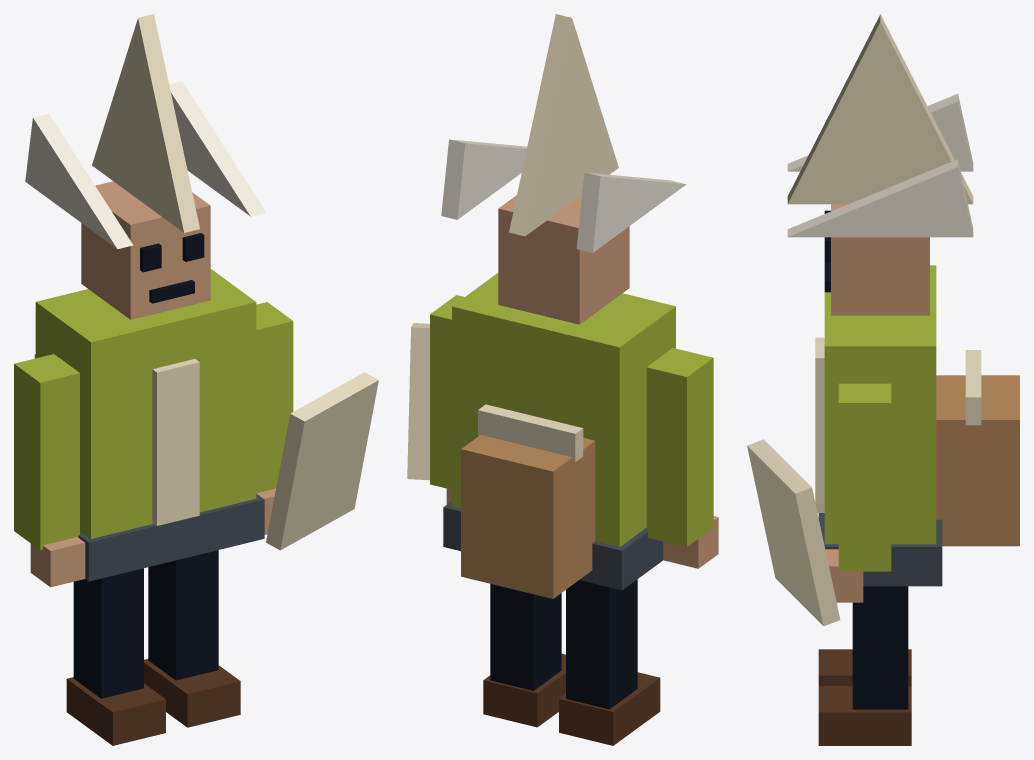
File: enemy_memo.glb
3 views of the same model, side by side, from view 1: azimuth 30°, elevation 25°; view 2: azimuth 150°, elevation 25°; view 3: azimuth 270°, elevation 25° (orthographic).
Visible parts, largest first — view 1: enemy_memo; view 2: enemy_memo; view 3: enemy_memo.
Boxes of the visible parts, x1=… form: enemy_memo: x1=14, y1=14, x2=378, y2=745; enemy_memo: x1=407, y1=14, x2=718, y2=745; enemy_memo: x1=747, y1=14, x2=1019, y2=745.
Size of the model in its own units: 1.19 by 2.48 by 0.8808.
1 material, 1 textured.
